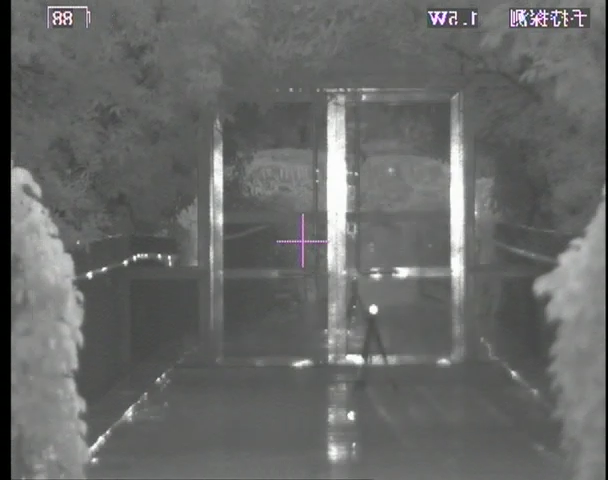my: (368, 303, 380, 315)
